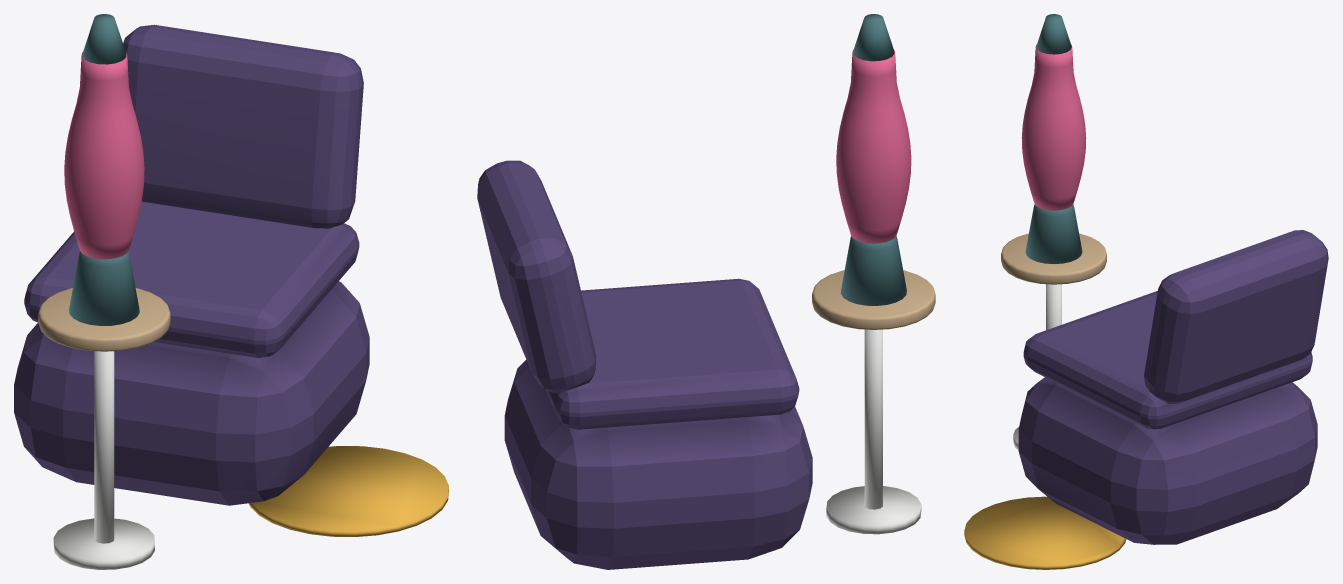
File: lavaLamp.glb
3 renders of one model, left to right at view 1: azimuth 30°, elevation 25°; view 2: azimuth 150°, elevation 25°; view 3: azimuth 270°, elevation 25°, orthographic. The views are drawn at different scales.
Parts seen in each view (by area): view 1: body; view 2: body; view 3: body.
Boxes of the visible parts, x1,y1,x2,y2 form: body: [14, 14, 448, 569]; body: [477, 14, 935, 569]; body: [964, 14, 1328, 569].
Size of the model in its own units: 0.8961 by 1.15 by 0.8937.
